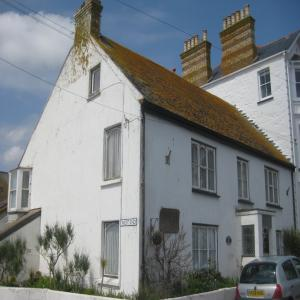Vehicle-registration-plate: (248, 290, 265, 298)
